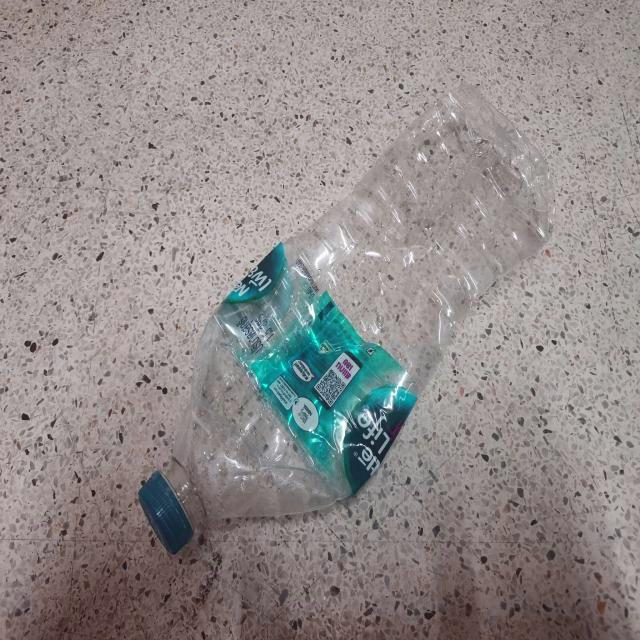bottle: (138, 85, 556, 555)
